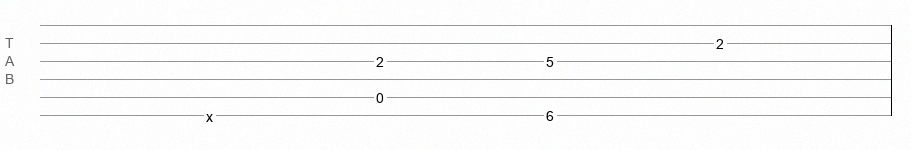0: (376, 90, 384, 100)
2: (376, 54, 384, 64), (716, 36, 724, 46)
5: (546, 54, 554, 64)
6: (546, 108, 554, 118)
x: (206, 109, 213, 117)
